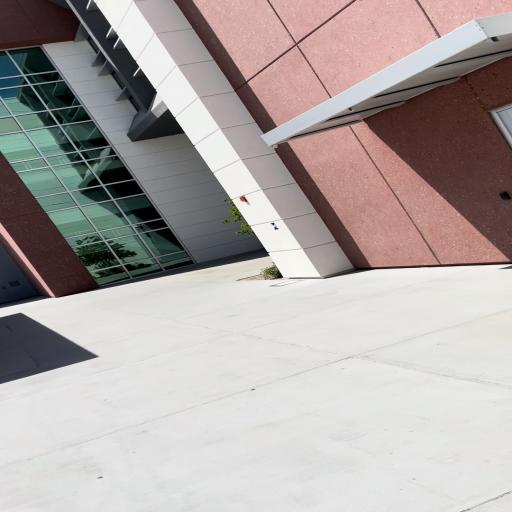target6: (270, 222, 279, 230)
